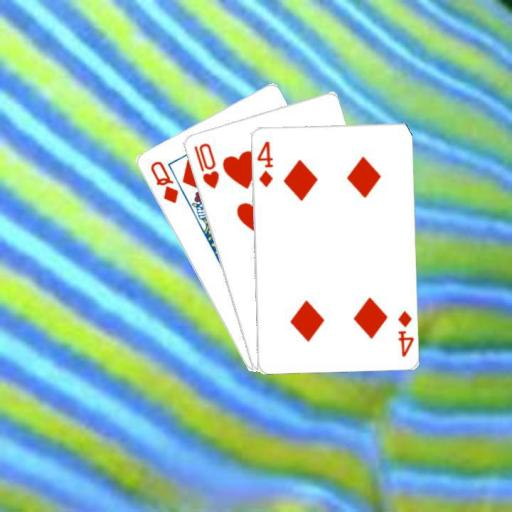10H: (190, 139, 220, 190)
4D: (254, 137, 274, 188), (394, 307, 414, 358)
QD: (146, 157, 180, 205)
